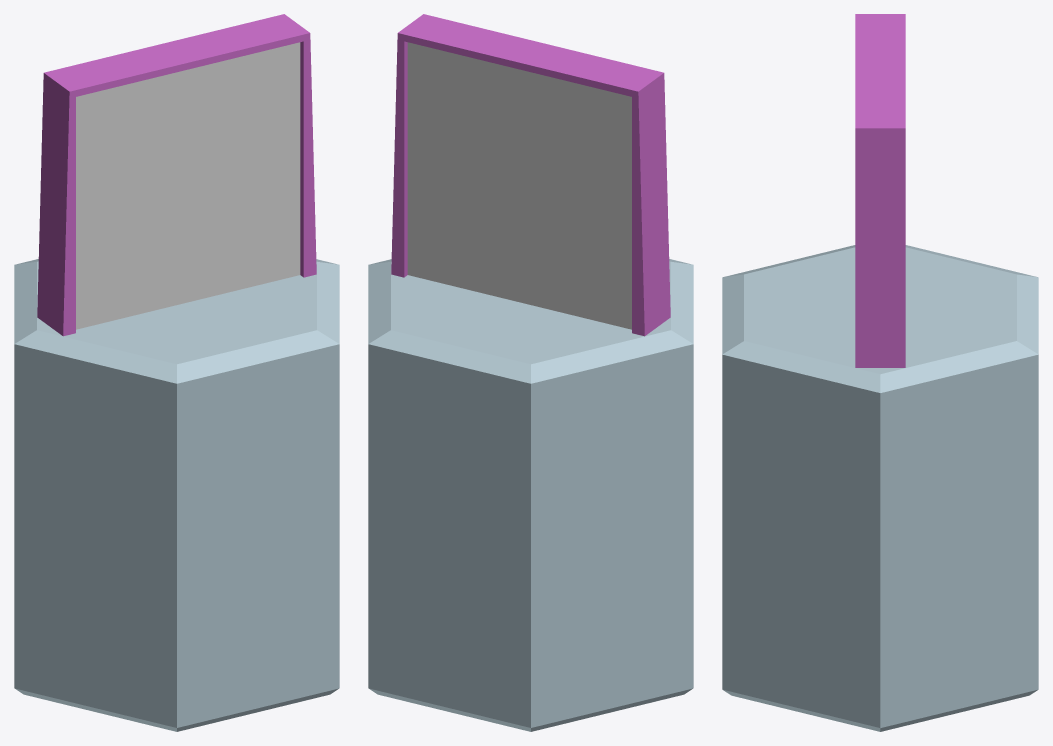
Rendered from FlatMirrorTile.fbx.
3 views of the same model, side by side, from view 1: azimuth 30°, elevation 25°; view 2: azimuth 150°, elevation 25°; view 3: azimuth 270°, elevation 25° (orthographic). The views are drawn at different scales.
Parts seen in each view (by area): view 1: Hex, pCube1; view 2: Hex, pCube1; view 3: Hex, pCube1.
Part boxes in pixels (x1,y1,x2,y2): Hex: (14,259,339,731); pCube1: (37,14,316,336); Hex: (368,259,693,731); pCube1: (391,14,670,336); Hex: (722,245,1038,731); pCube1: (855,14,905,367).
Size of the model in its own units: 10 by 17.75 by 8.66.
